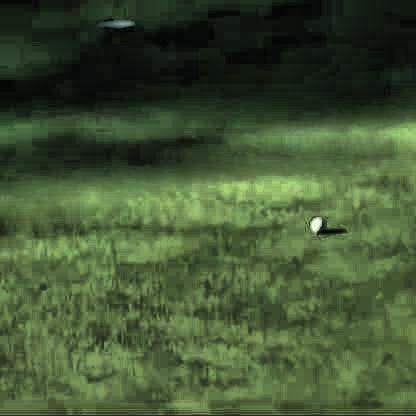golfball: (306, 215, 322, 231)
